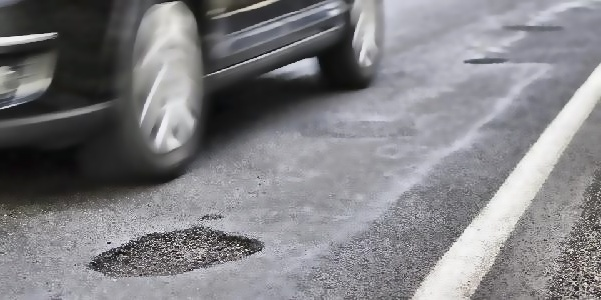pothole: (86, 226, 267, 281)
